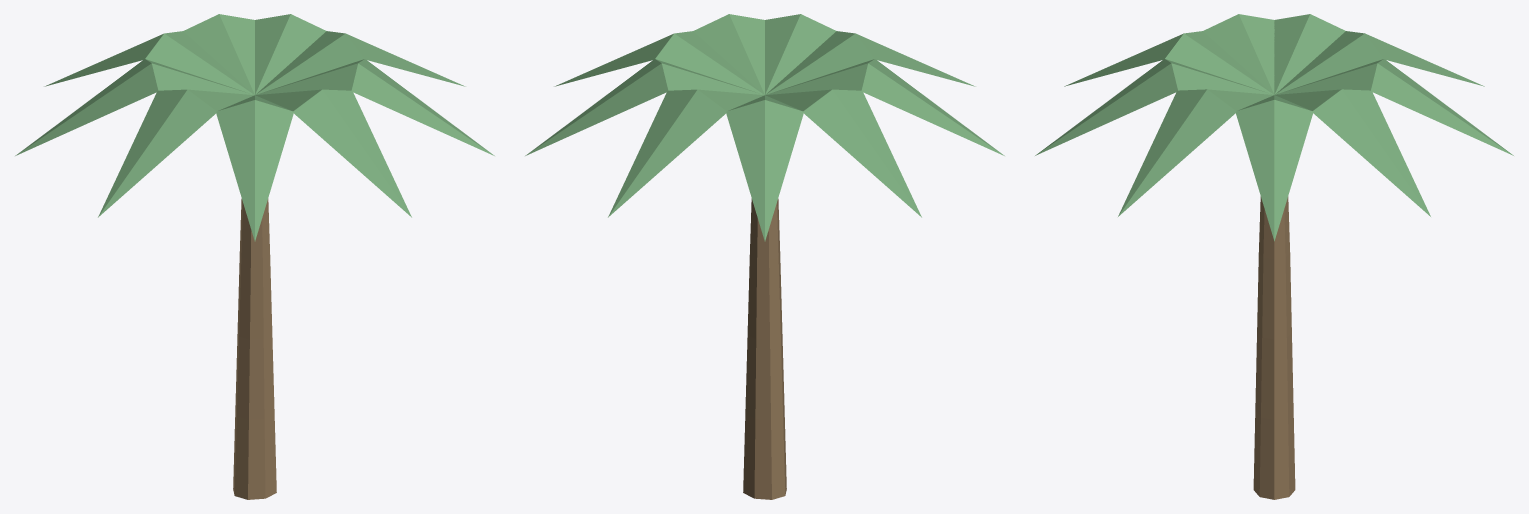
Rendered from palm.glb.
3 views of the same model, side by side, from view 1: azimuth 30°, elevation 25°; view 2: azimuth 150°, elevation 25°; view 3: azimuth 270°, elevation 25° (orthographic).
Visible parts, largest first — view 1: Broad arching palm frond, Curved segmented palm; view 2: Broad arching palm frond, Curved segmented palm; view 3: Broad arching palm frond, Curved segmented palm.
Boxes of the visible parts, x1,y1,x2,y2 form: Broad arching palm frond: (15,14,494,241); Curved segmented palm: (233,198,276,499); Broad arching palm frond: (525,14,1004,241); Curved segmented palm: (743,198,786,499); Broad arching palm frond: (1035,14,1513,241); Curved segmented palm: (1253,196,1295,499).
Bounding box in the file's own units: 5.43 × 5.5 × 5.51.
